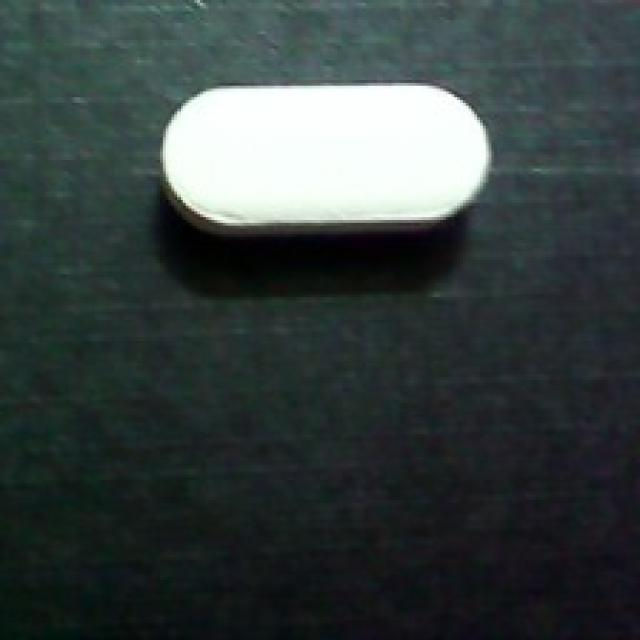no-defect: (154, 83, 494, 251)
